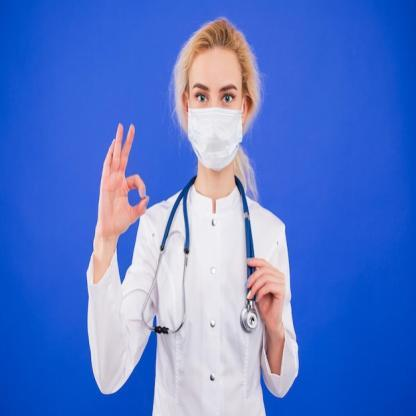ok: (92, 115, 152, 233)
